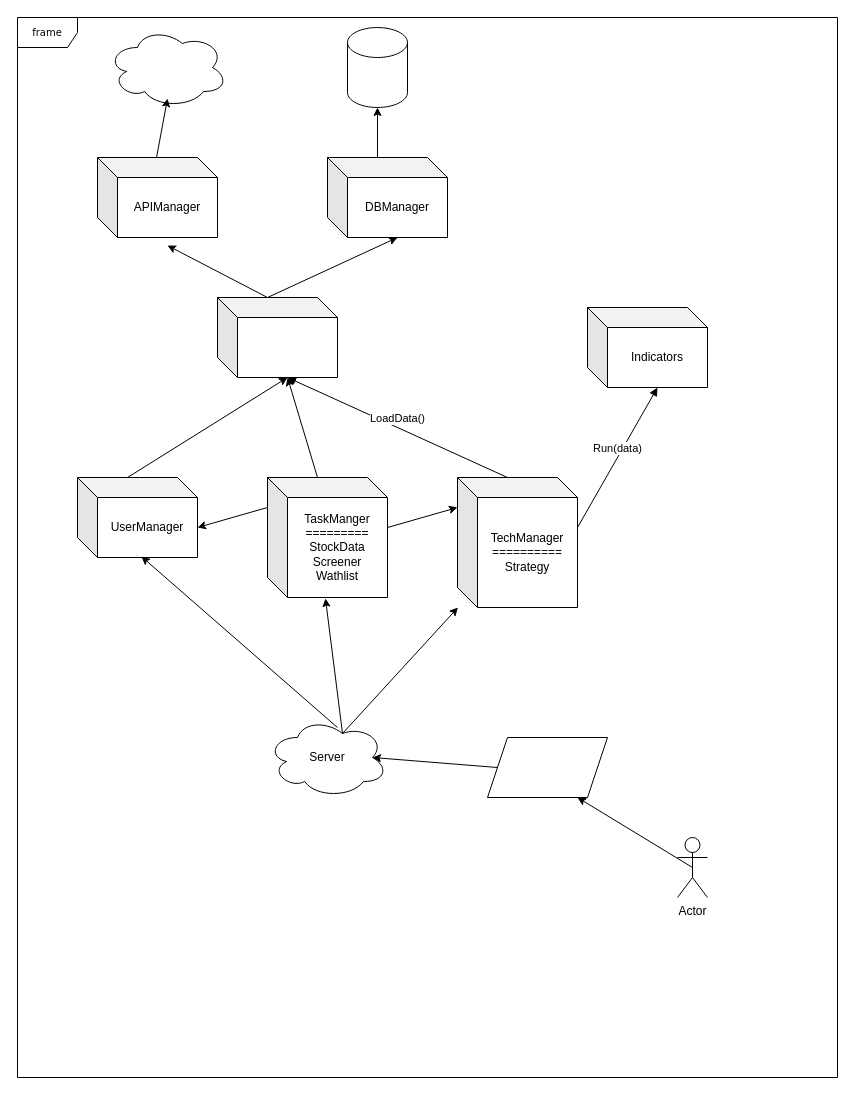
Image size: 855x1095. Some labels were removed from this diagram. Each missing label, with the centre of its shape:
"DataManager" belongs at (277,337).
"Stock API" belongs at (167,67).
"Stock DB" belongs at (377,67).
"Website UI" belongs at (547,767).
